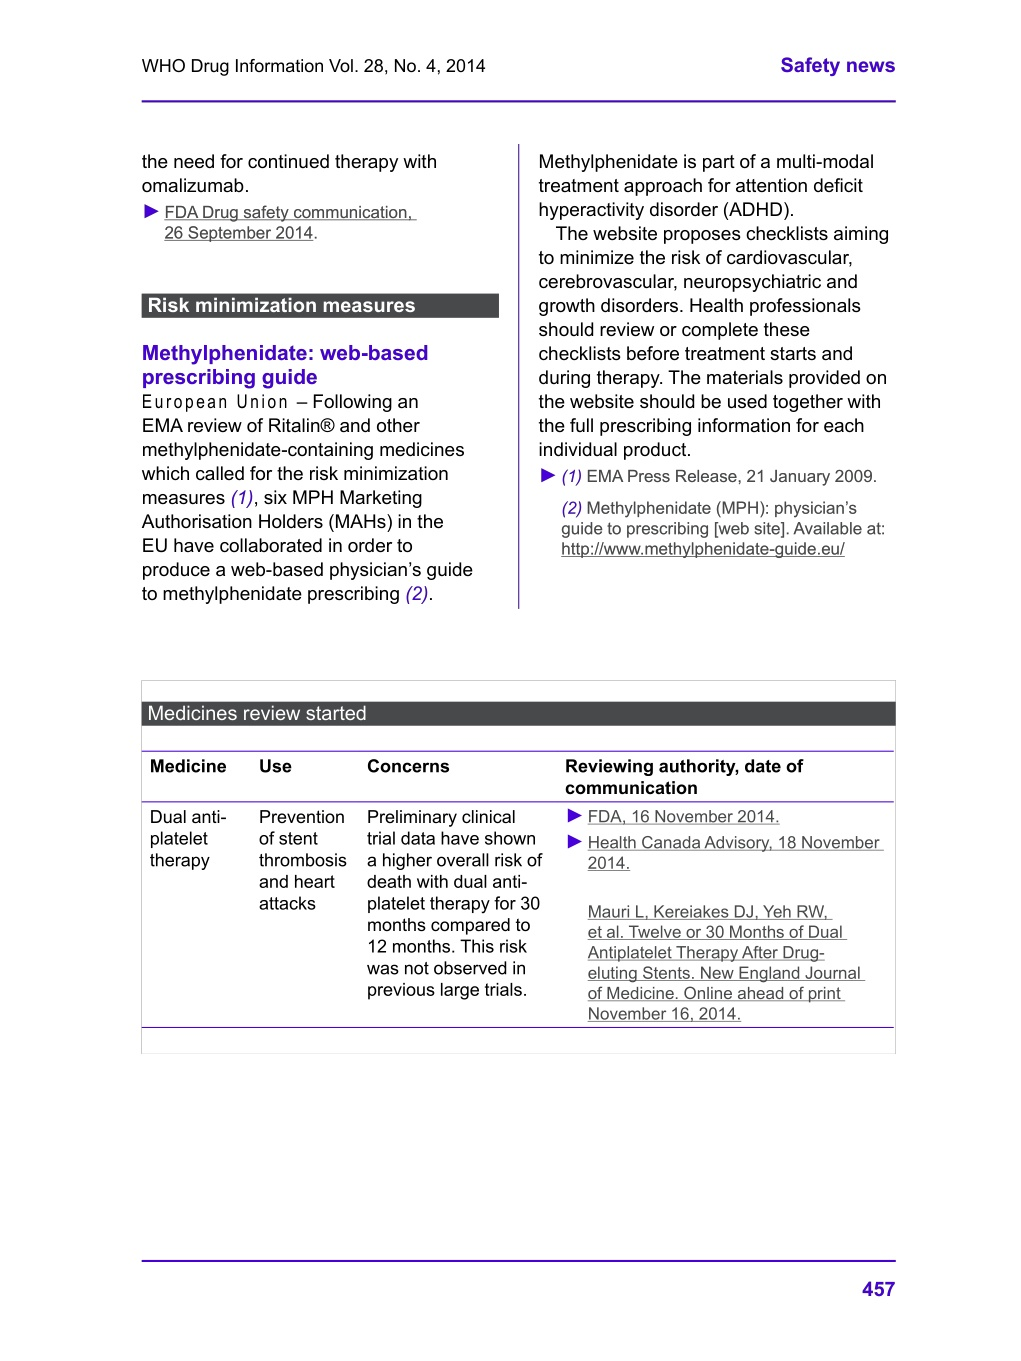partial_lined: (139, 680, 897, 1057)
